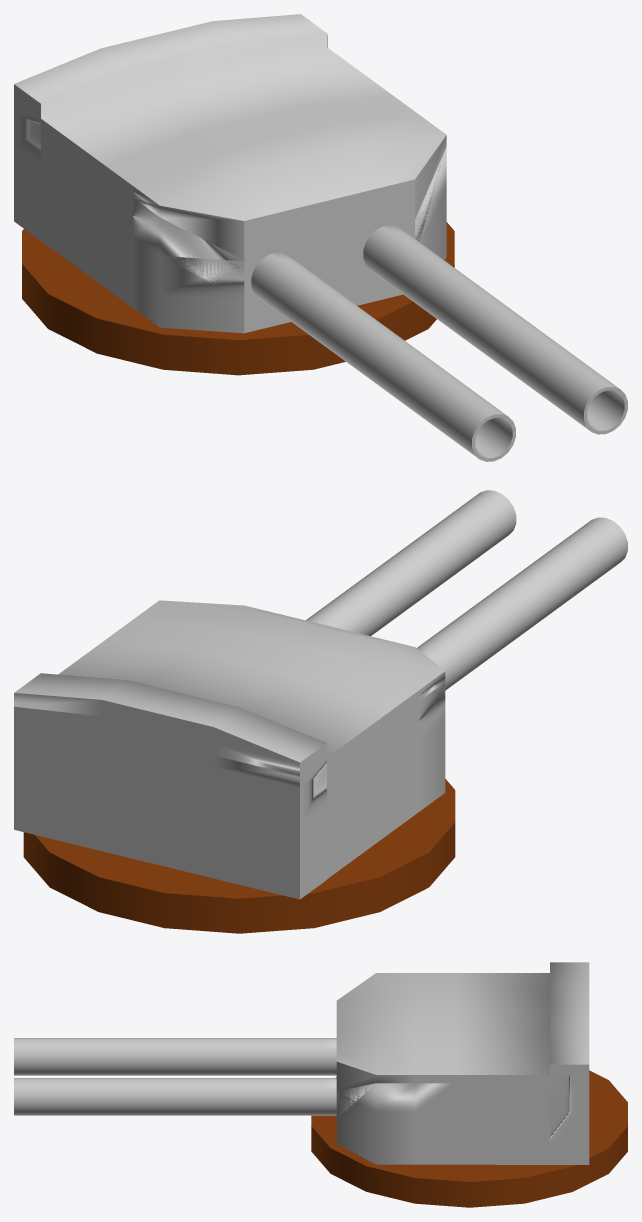
File: turret_turret.obj
3 renders of one model, top to bottom at view 1: azimuth 30°, elevation 25°; view 2: azimuth 150°, elevation 25°; view 3: azimuth 270°, elevation 25°, orthographic. The views are drawn at different scales.
Visible parts, largest first — view 1: Box002, Cylinder001; view 2: Box002, Cylinder001; view 3: Box002, Cylinder001.
Boxes of the visible parts, x1=… form: Box002: x1=14, y1=14, x2=627, y2=461; Cylinder001: x1=22, y1=222, x2=454, y2=375; Box002: x1=14, y1=490, x2=627, y2=899; Cylinder001: x1=23, y1=779, x2=455, y2=933; Box002: x1=14, y1=962, x2=589, y2=1164; Cylinder001: x1=311, y1=1070, x2=627, y2=1207.
Bounding box in the file's own units: 34 × 16.03 × 64.95.
